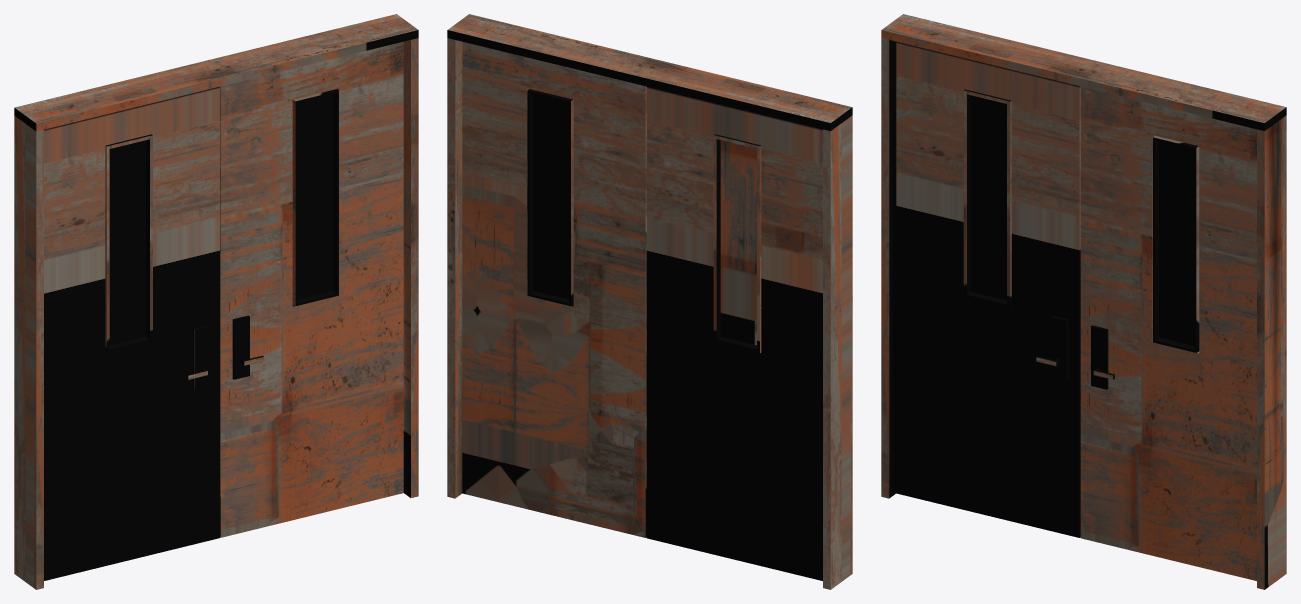
3 views of the same model, side by side, from view 1: azimuth 30°, elevation 25°; view 2: azimuth 150°, elevation 25°; view 3: azimuth 330°, elevation 25° (orthographic).
Parts seen in each view (by area): view 1: Door3; view 2: Door3; view 3: Door3.
Boxes of the visible parts, x1=… form: Door3: x1=14, y1=14, x2=418, y2=589; Door3: x1=447, y1=14, x2=852, y2=589; Door3: x1=881, y1=14, x2=1286, y2=589.
Bounding box in the file's own units: 1.72 × 2 × 0.1722.
